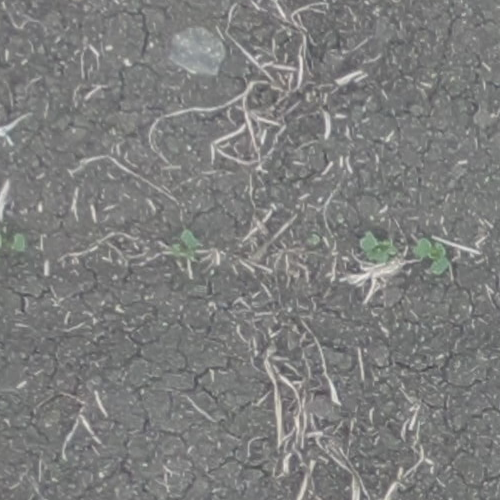isolated: (413, 236, 449, 276), (359, 229, 393, 260), (173, 229, 201, 257), (11, 232, 27, 252), (0, 226, 4, 260)
